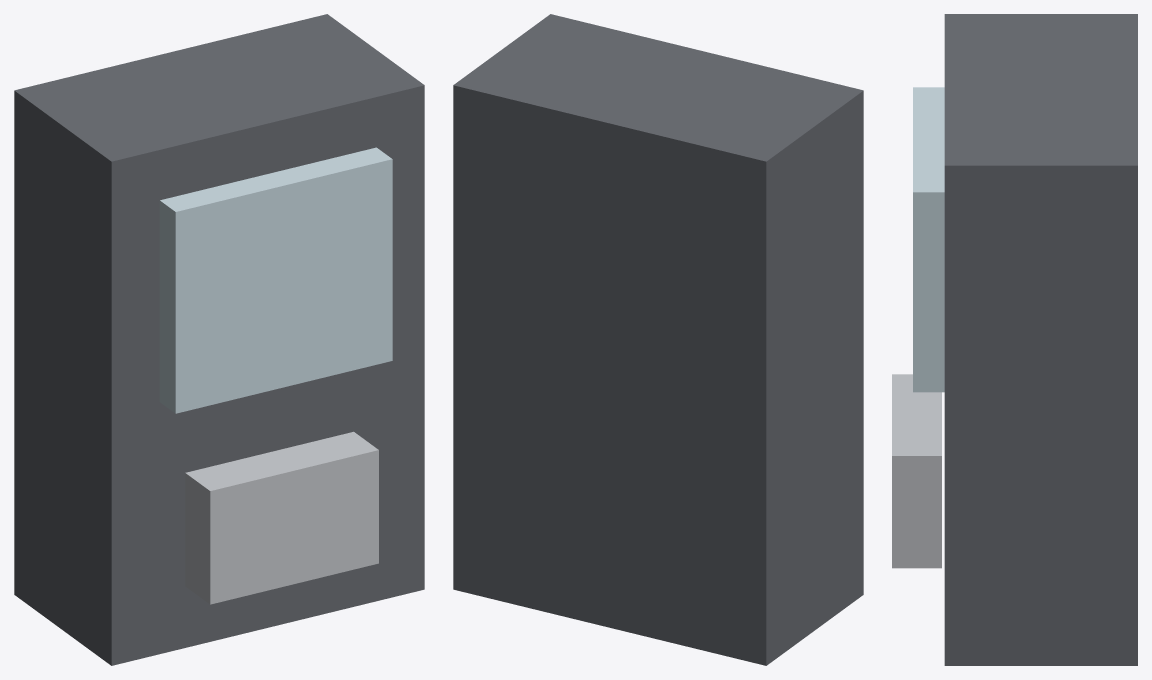
The model's file is bank-vault-heist-kit-fingerprint-scanner-009882c1__25115.glb.
3 views of the same model, side by side, from view 1: azimuth 30°, elevation 25°; view 2: azimuth 150°, elevation 25°; view 3: azimuth 270°, elevation 25° (orthographic).
Visible parts, largest first — view 1: fingerprint-scanner; view 2: fingerprint-scanner; view 3: fingerprint-scanner.
Part boxes in pixels (left/top/right/bottom): fingerprint-scanner: left=14, top=14, right=424, bottom=665; fingerprint-scanner: left=453, top=14, right=863, bottom=665; fingerprint-scanner: left=892, top=14, right=1137, bottom=665.
Size of the model in its own units: 0.13 by 0.2 by 0.089.
